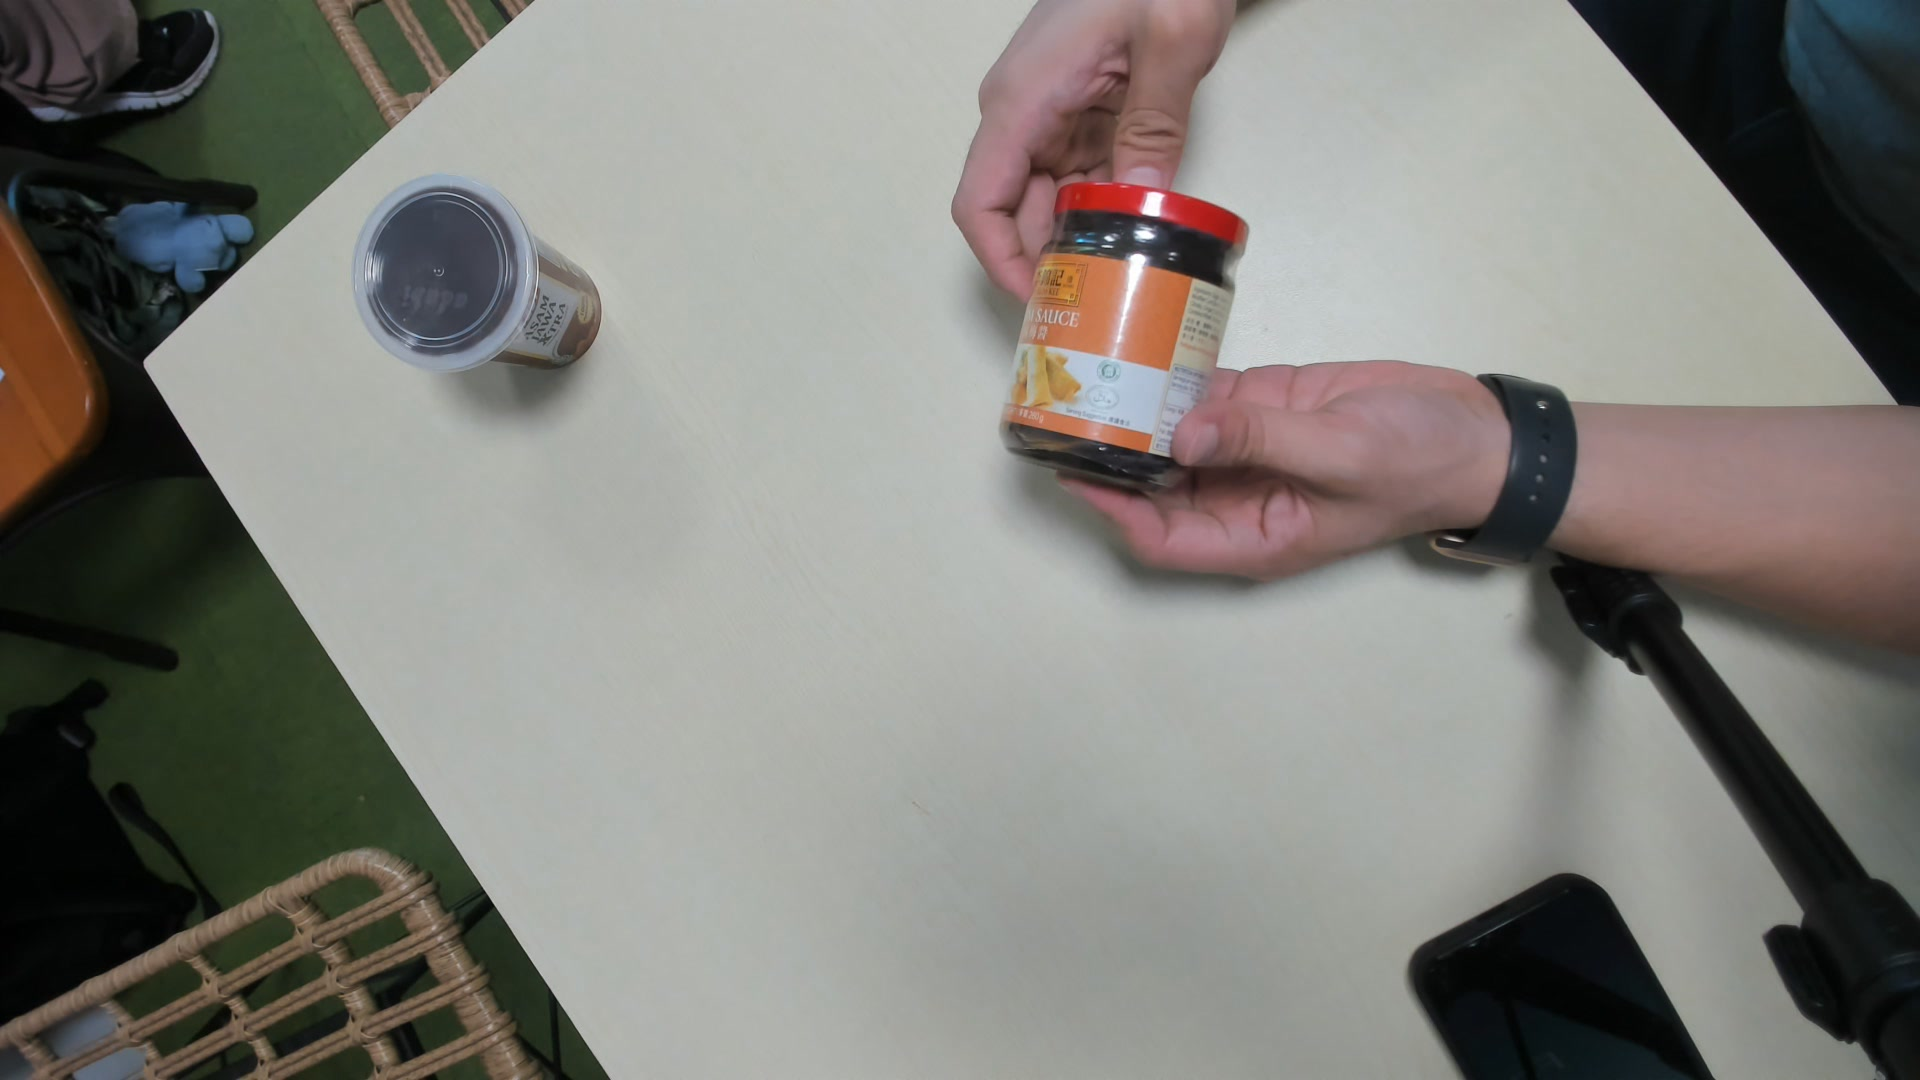OtherSauceDressing_200-299g_Halal_NonHealthy: (990, 179, 1255, 485)
